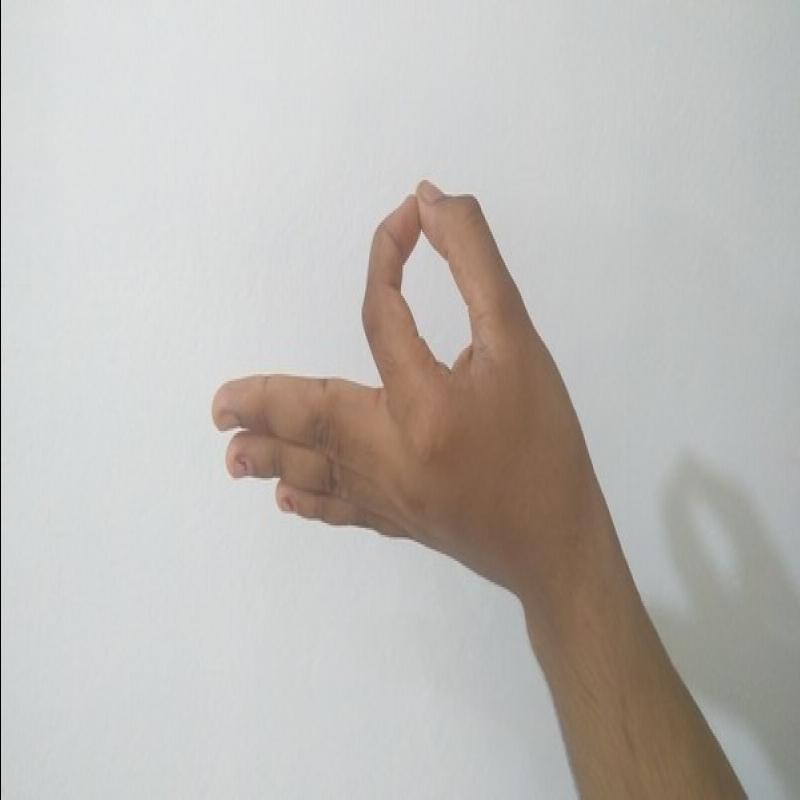Mudraakhyam: (187, 170, 615, 603)
